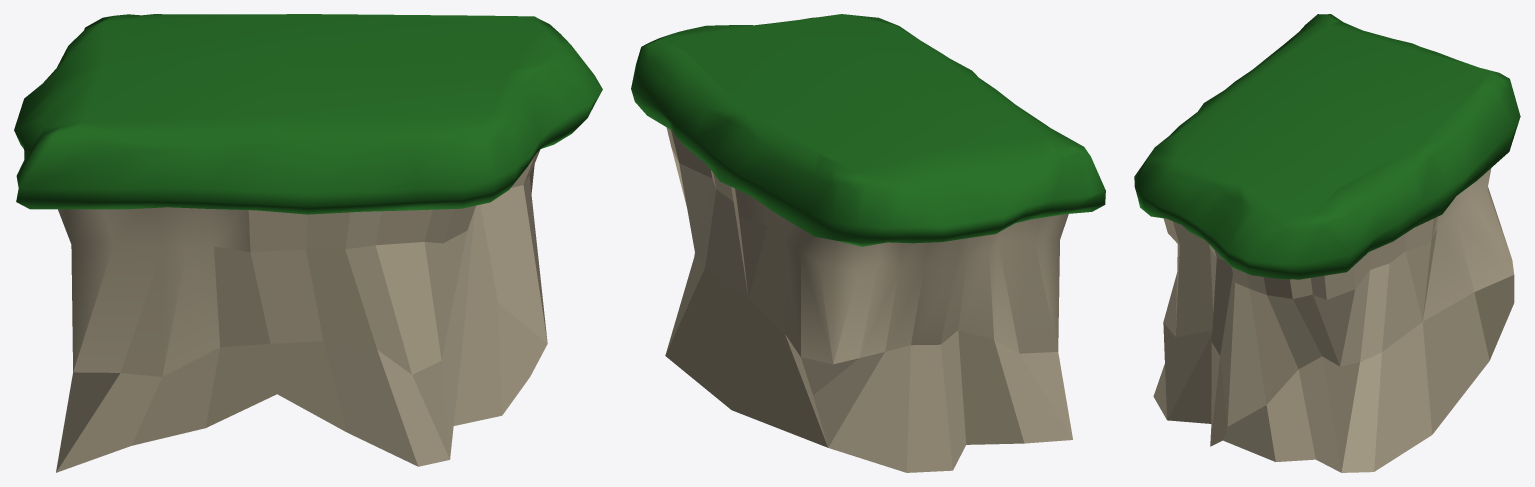
Rendered from SM_Cliff2.fbx.
3 views of the same model, side by side, from view 1: azimuth 30°, elevation 25°; view 2: azimuth 150°, elevation 25°; view 3: azimuth 270°, elevation 25° (orthographic). The views are drawn at different scales.
Visible parts, largest first — view 1: SM_Cliffs4; view 2: SM_Cliffs4; view 3: SM_Cliffs4.
Boxes of the visible parts, bbox=[...] form: SM_Cliffs4: bbox=[14, 14, 602, 472]; SM_Cliffs4: bbox=[631, 14, 1105, 472]; SM_Cliffs4: bbox=[1134, 14, 1520, 472].
Bounding box in the file's own units: 12.96 × 8.19 × 9.28.
